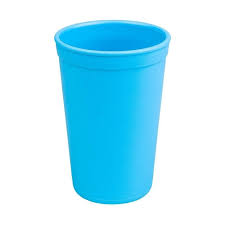glass: (50, 16, 174, 208)
